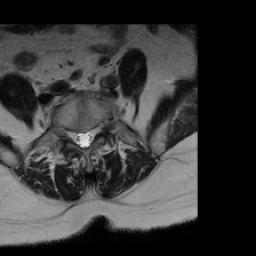CCS_normal: (80, 125, 86, 152)
LFS_normal: (92, 117, 99, 142)
LLS_normal: (86, 122, 93, 150)
RFS_normal: (66, 123, 73, 147)
RLS_normal: (73, 123, 80, 149)
